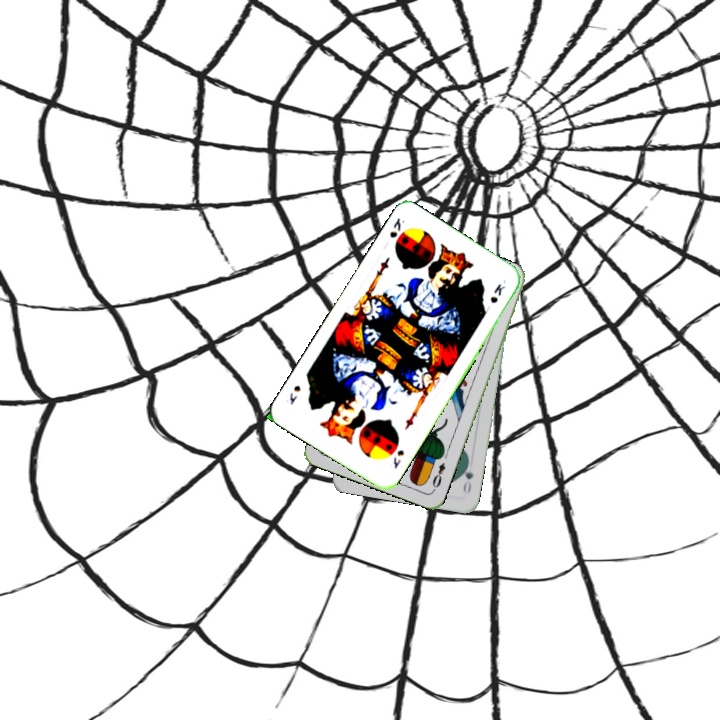EO: (428, 458, 448, 493)
GO: (459, 457, 476, 496)
SK: (385, 214, 407, 241), (389, 445, 407, 472)
